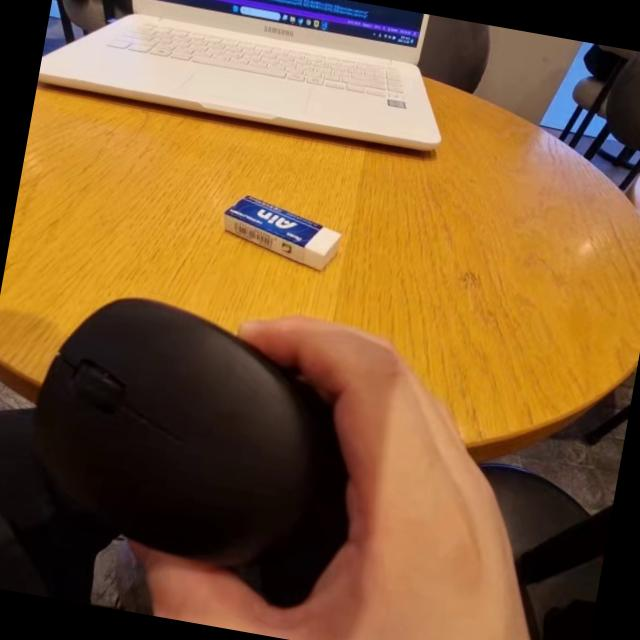eraser: (212, 181, 364, 280)
grab_mouse: (3, 267, 534, 640)
hand: (158, 300, 510, 640)
mouse: (2, 272, 374, 592)
